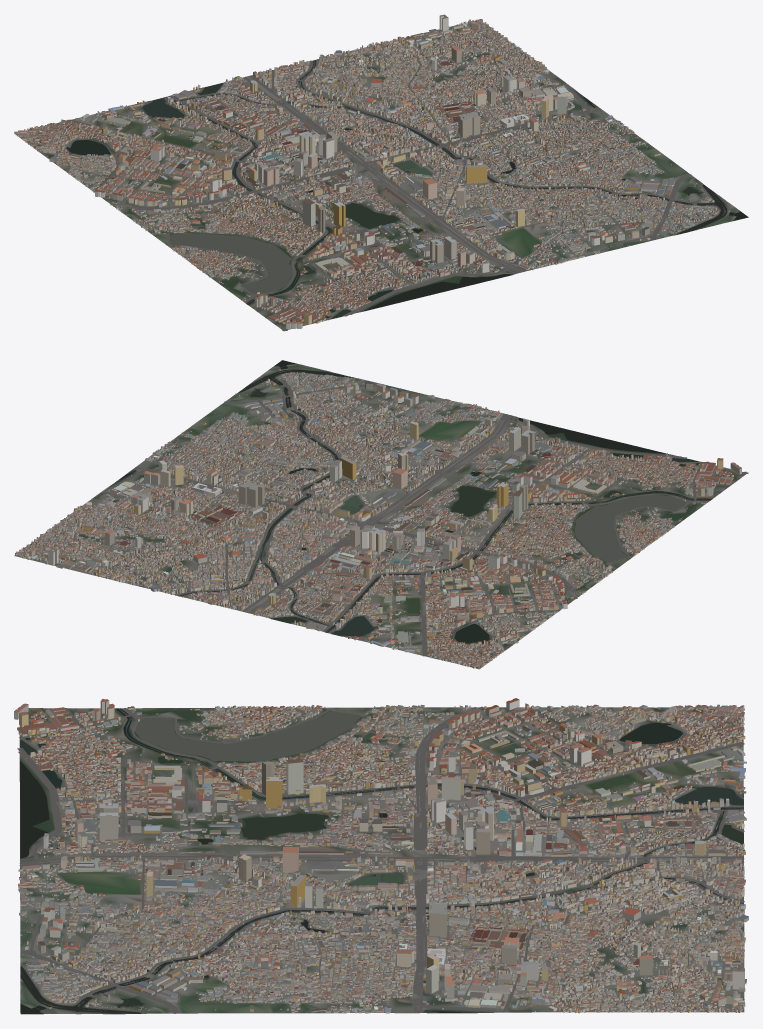
The picture shows the model from 3 angles, top to bottom: view 1: azimuth 30°, elevation 25°; view 2: azimuth 150°, elevation 25°; view 3: azimuth 270°, elevation 25°; orthographic projection. The views are drawn at different scales.
Parts seen in each view (by area): view 1: buildings, ground, roads, water; view 2: buildings, ground, roads, water; view 3: buildings, ground, roads, water.
Part boxes in pixels (x1,y1,x2,y2): buildings: [14, 14, 730, 328]; ground: [14, 20, 748, 329]; roads: [60, 35, 712, 331]; water: [48, 60, 748, 318]; buildings: [15, 369, 741, 669]; ground: [14, 362, 745, 669]; roads: [55, 377, 748, 656]; water: [101, 360, 711, 646]; buildings: [14, 698, 748, 1013]; ground: [19, 707, 744, 1014]; roads: [17, 706, 744, 1013]; water: [20, 708, 743, 1013].
Bounding box in the file's own units: 2830 × 138 × 2846.
